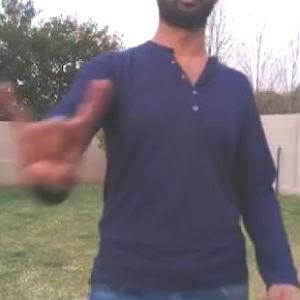takeoff-hand: (0, 66, 120, 205)
